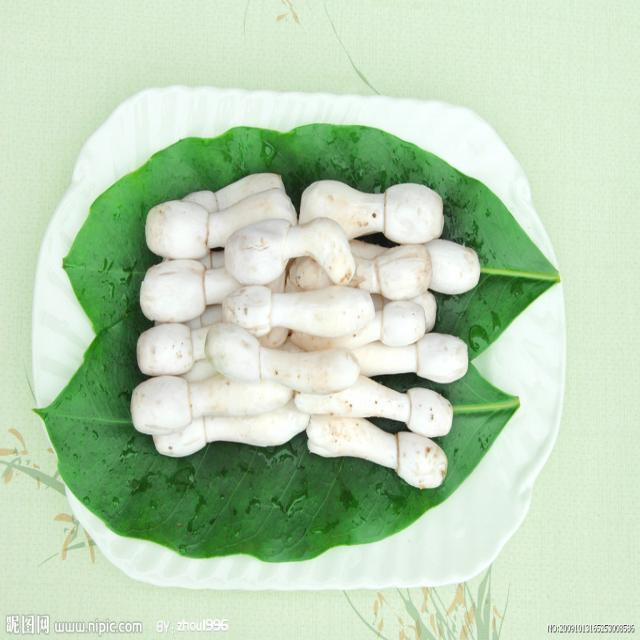Coprinus comatus: (207, 319, 359, 396), (288, 239, 482, 297), (146, 191, 294, 257), (130, 372, 293, 430), (307, 423, 448, 489), (319, 372, 456, 436), (288, 186, 443, 242), (140, 262, 236, 319), (342, 338, 472, 378), (136, 327, 215, 371)
